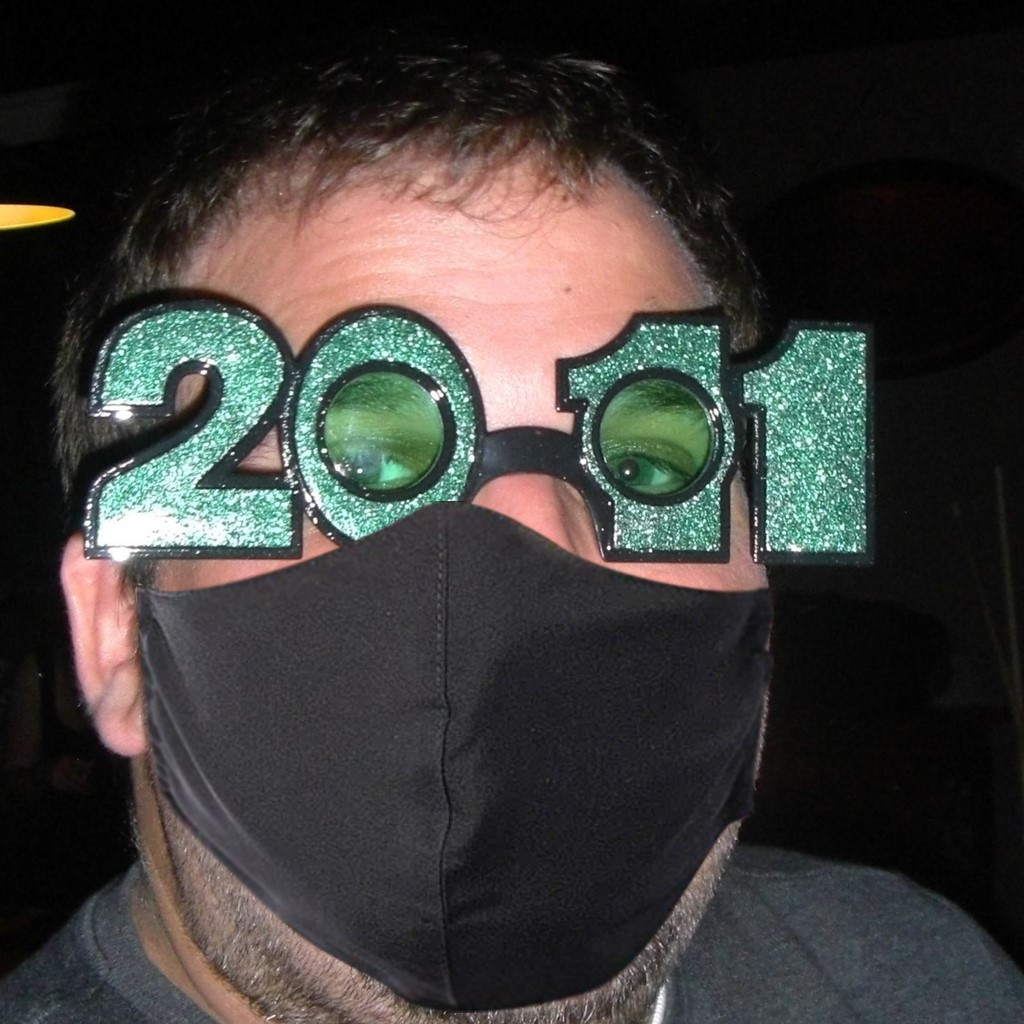con_mascara: (129, 185, 771, 996)
